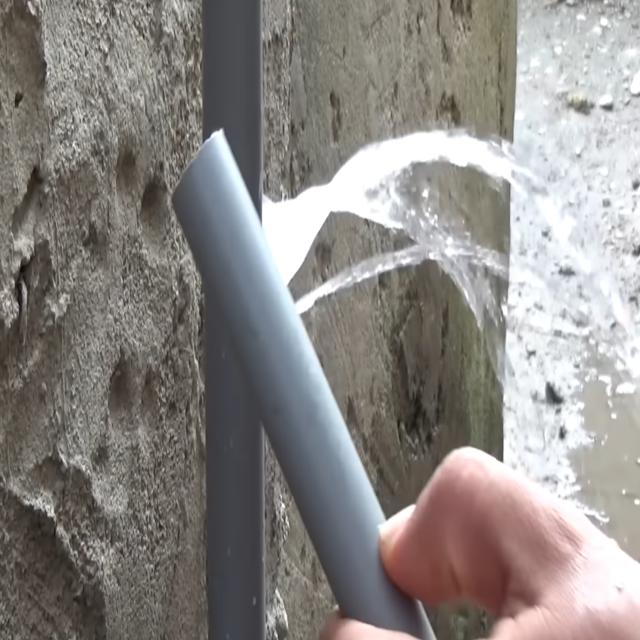leak: (262, 131, 569, 382)
